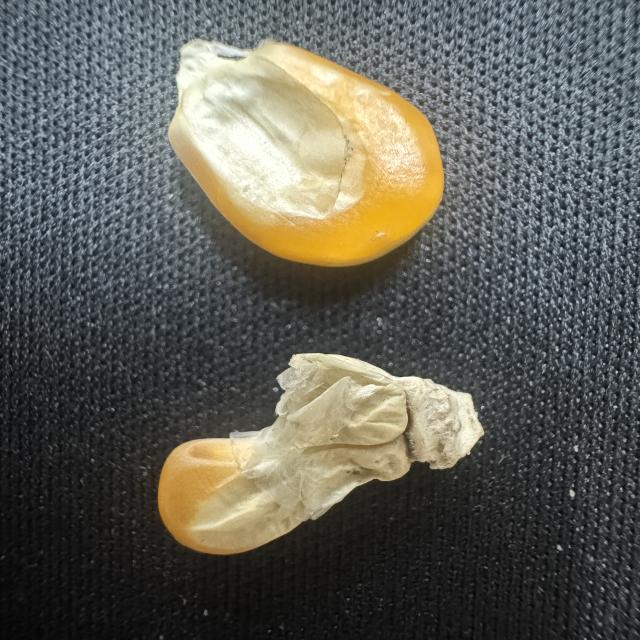Bad-Seed: (150, 350, 489, 561)
Good-Seed: (161, 32, 452, 273)
